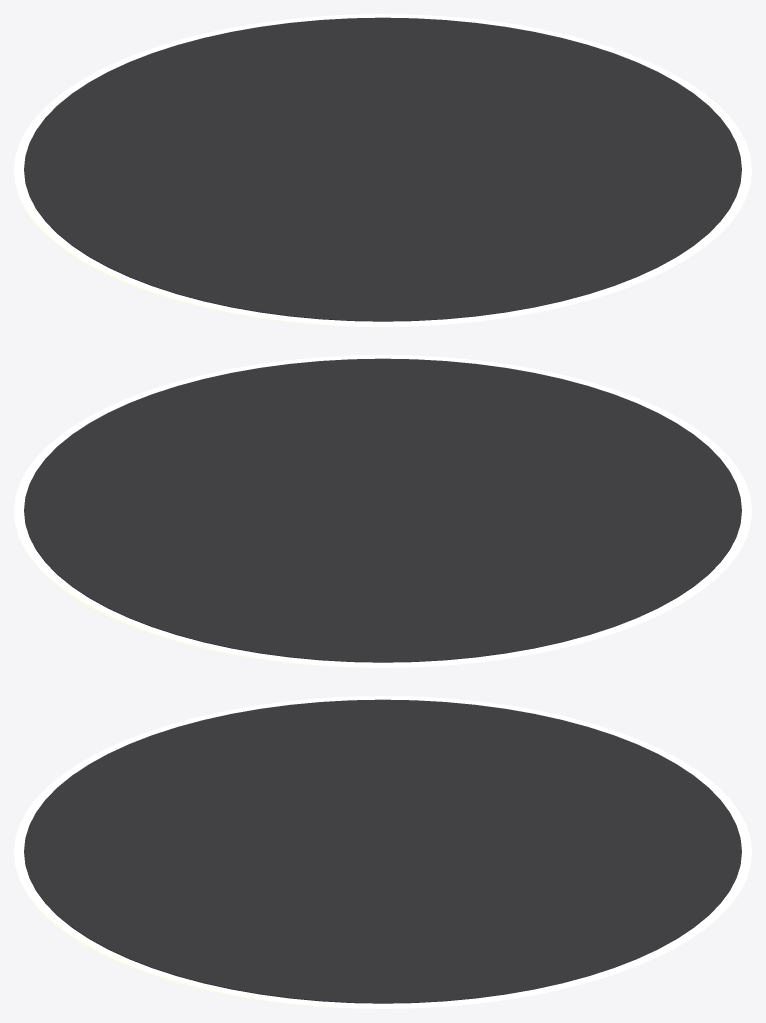
Rendered from studio.glb.
3 views of the same model, one above another, from view 1: azimuth 30°, elevation 25°; view 2: azimuth 150°, elevation 25°; view 3: azimuth 270°, elevation 25° (orthographic).
Visible parts, largest first — view 1: floor, ring; view 2: floor, ring; view 3: floor, ring.
Part boxes in pixels (<box>): floor: <box>24,17,741,321</box>; ring: <box>14,14,751,326</box>; floor: <box>24,358,741,662</box>; ring: <box>14,355,751,667</box>; floor: <box>24,699,741,1003</box>; ring: <box>14,696,751,1008</box>.
Size of the model in its own units: 18.5 by 0.045 by 18.5.
